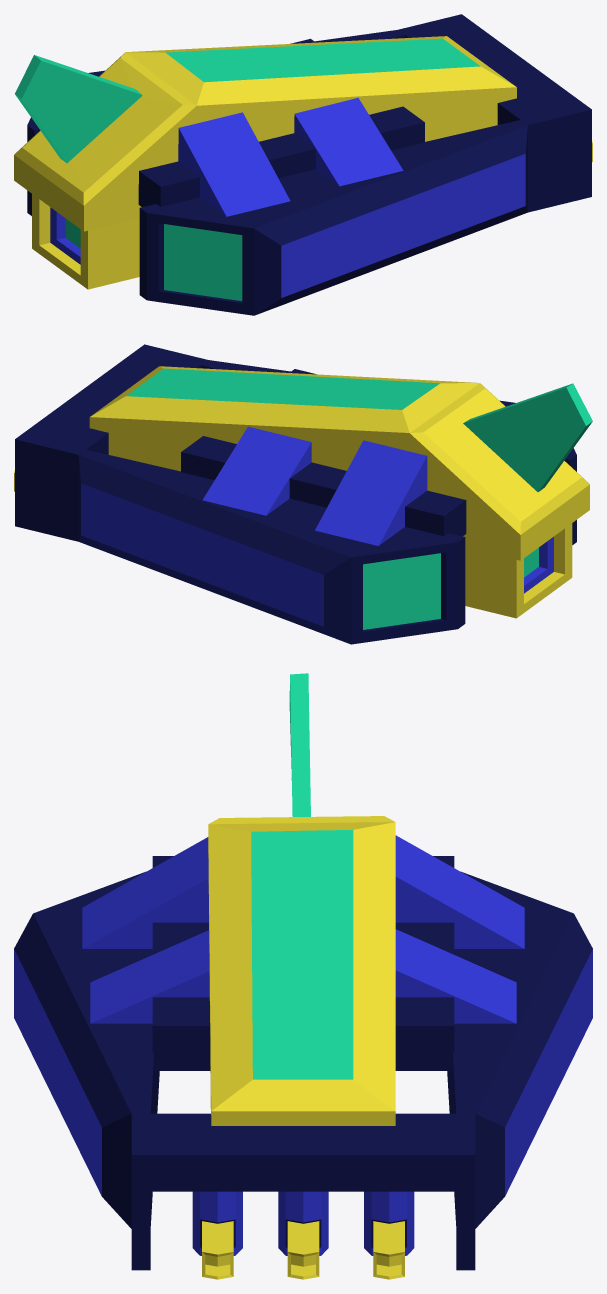
The model's file is Gegner15.fbx.
3 renders of one model, top to bottom at view 1: azimuth 30°, elevation 25°; view 2: azimuth 150°, elevation 25°; view 3: azimuth 270°, elevation 25°, orthographic. The views are drawn at different scales.
Visible parts, largest first — view 1: Cube.001; view 2: Cube.001; view 3: Cube.001, Cylinder, Cylinder.001, Cylinder.002.
Part boxes in pixels (x1,y1,x2,y2): Cube.001: [14, 14, 591, 315]; Cube.001: [15, 344, 592, 644]; Cube.001: [14, 673, 592, 1270]; Cylinder: [278, 1191, 328, 1279]; Cylinder.001: [364, 1191, 414, 1279]; Cylinder.002: [192, 1191, 242, 1279].
Size of the model in its own units: 289 by 112 by 203.
